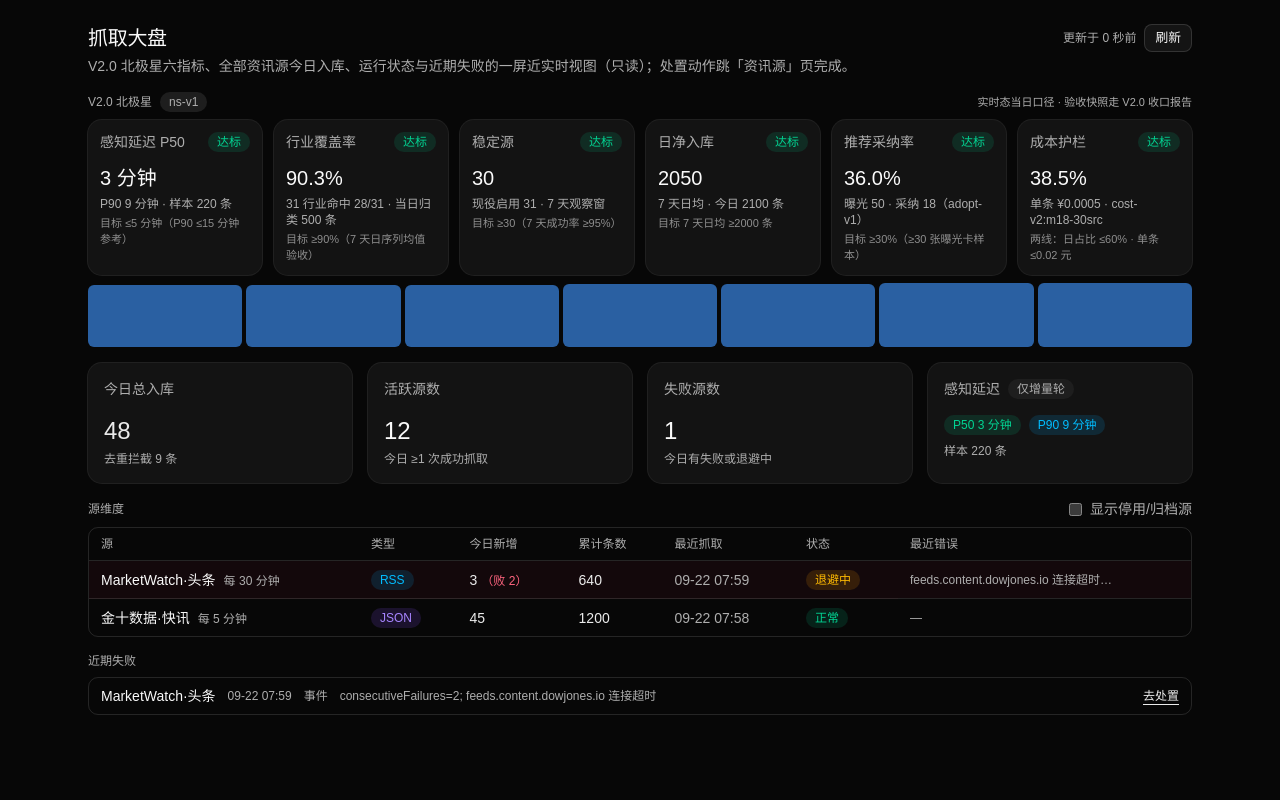
it: FeedDashboard 大盘三处数字弹框（V2.4 T214，REQ-20260928-20 拍板三） › 对账① 全局「今日总入库」可点：弹框 l0=ALL + 入库日=今日 + 全部源，标题 total == 被点数字
The image size is (1280, 800).
What coordinates should you click on to do the following:
click the button with test id "dashboard-stat-today-new-value"
I would click on:
 (117, 431)
Its box is [104, 415, 131, 447].
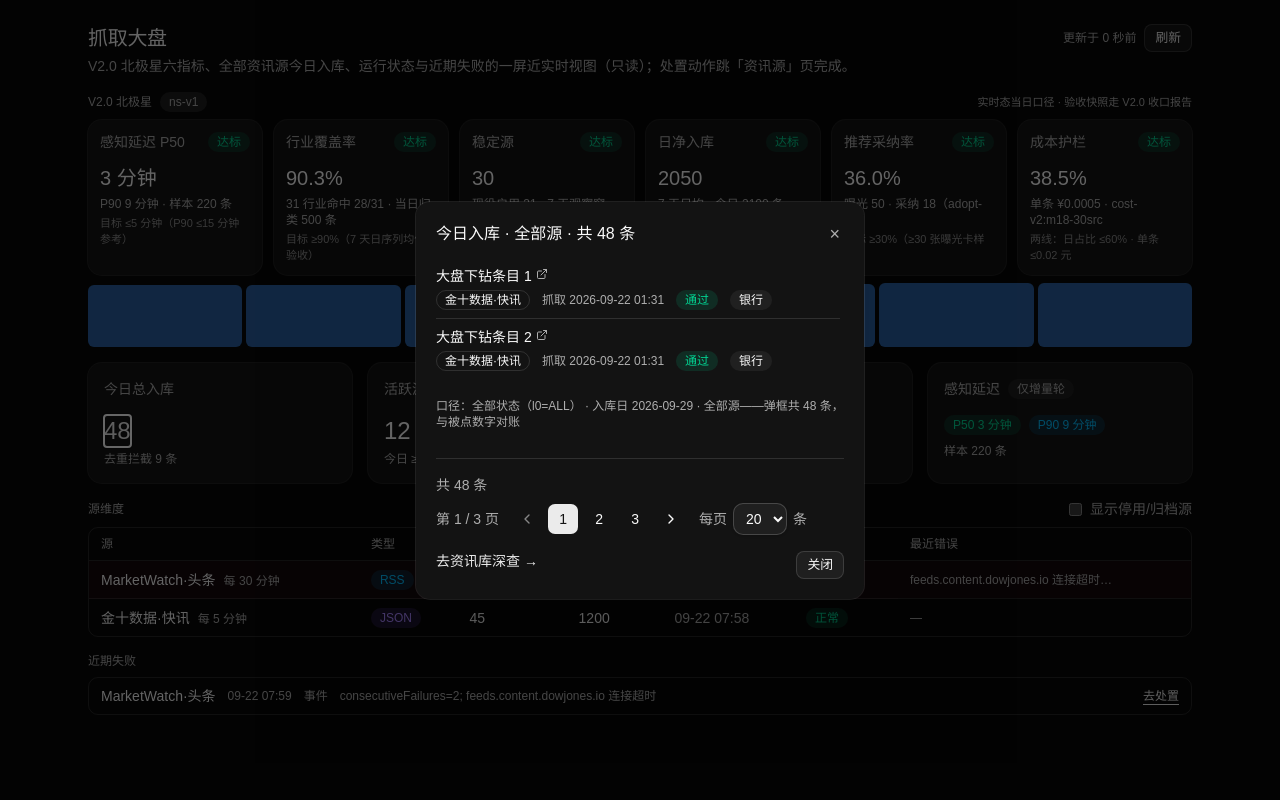
Result: the dialog shows "今日入库 · 全部源" at [436, 224, 635, 242]
